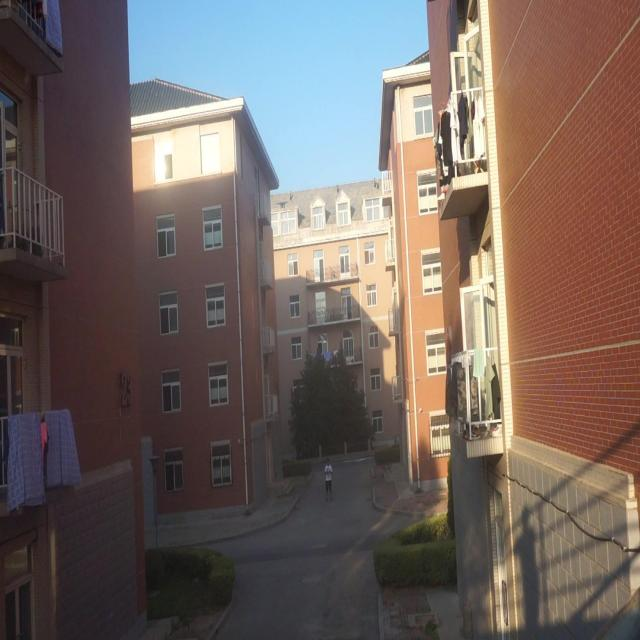UAV: (276, 201, 288, 208)
